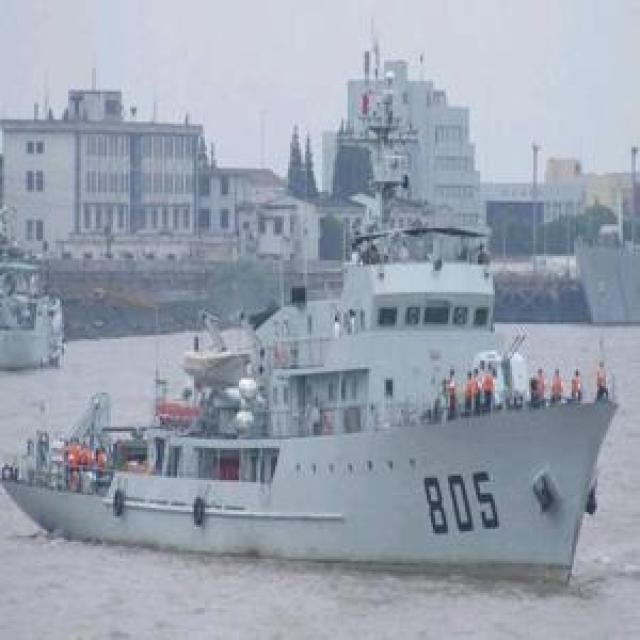passenger ship: (3, 182, 622, 578), (0, 227, 67, 364)
